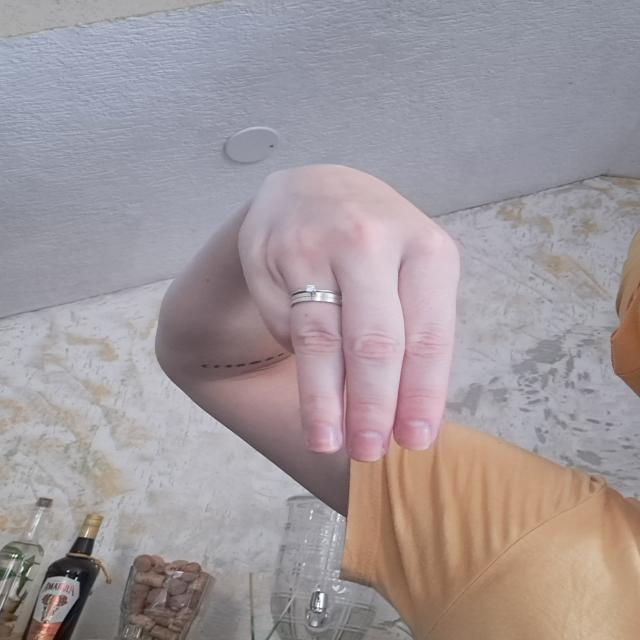M: (220, 151, 486, 457)
